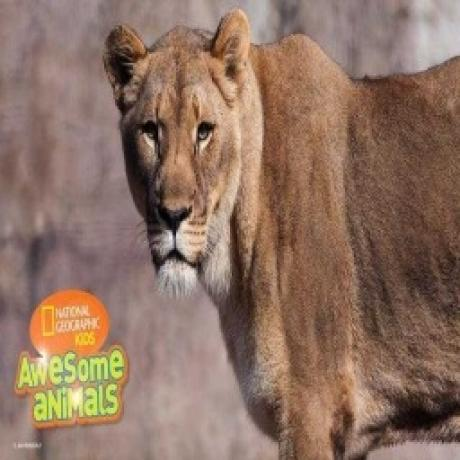Lion: (99, 7, 460, 458)
